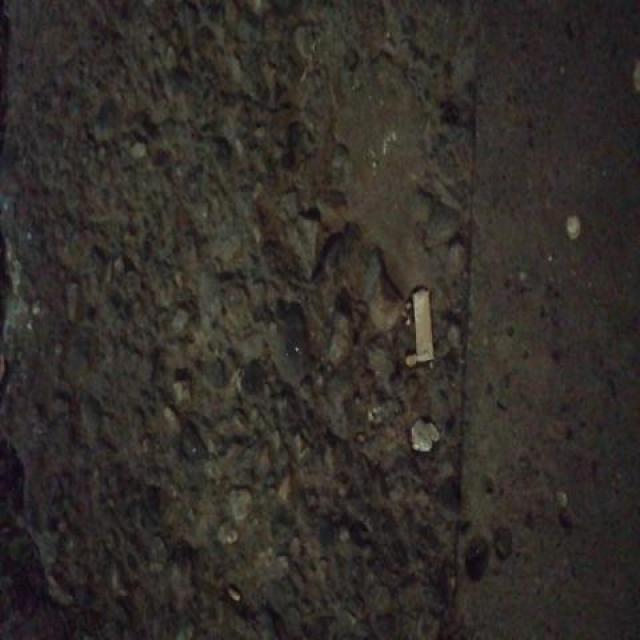non-organic waste: (410, 282, 438, 366)
